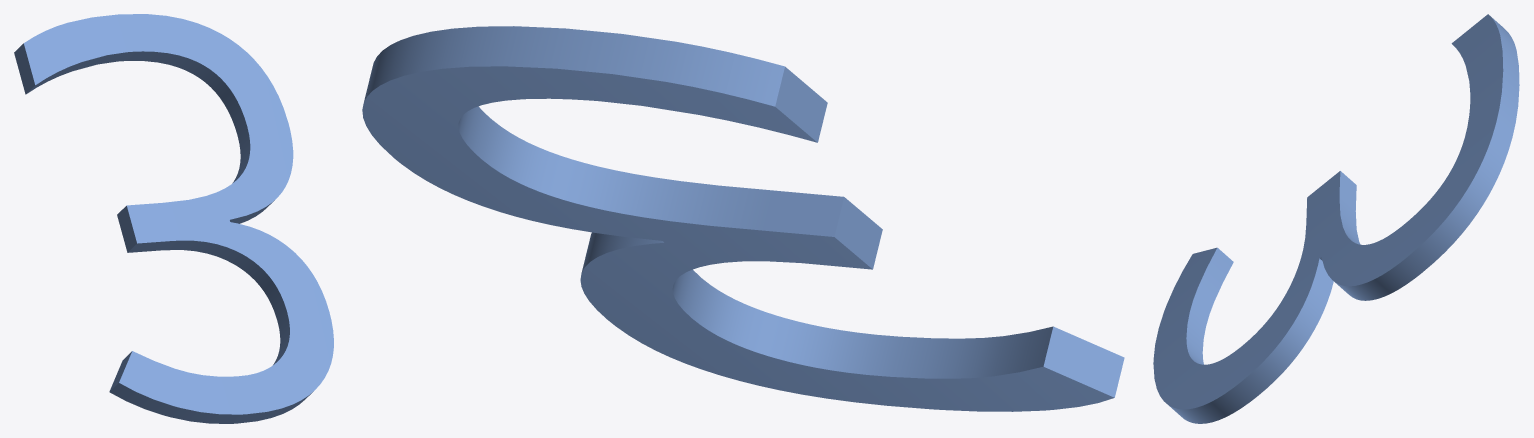
File: Number_3.gltf
3 renders of one model, left to right at view 1: azimuth 30°, elevation 25°; view 2: azimuth 150°, elevation 25°; view 3: azimuth 270°, elevation 25°, orthographic. The views are drawn at different scales.
Parts seen in each view (by area): view 1: Sub_6_Cell_2_3_Number_3; view 2: Sub_6_Cell_2_3_Number_3; view 3: Sub_6_Cell_2_3_Number_3.
Boxes of the visible parts, <box> form: Sub_6_Cell_2_3_Number_3: <box>14,14,333,423</box>; Sub_6_Cell_2_3_Number_3: <box>362,26,1124,411</box>; Sub_6_Cell_2_3_Number_3: <box>1153,14,1519,423</box>.
Size of the model in its own units: 0.0183 by 0.0196 by 0.0194.
